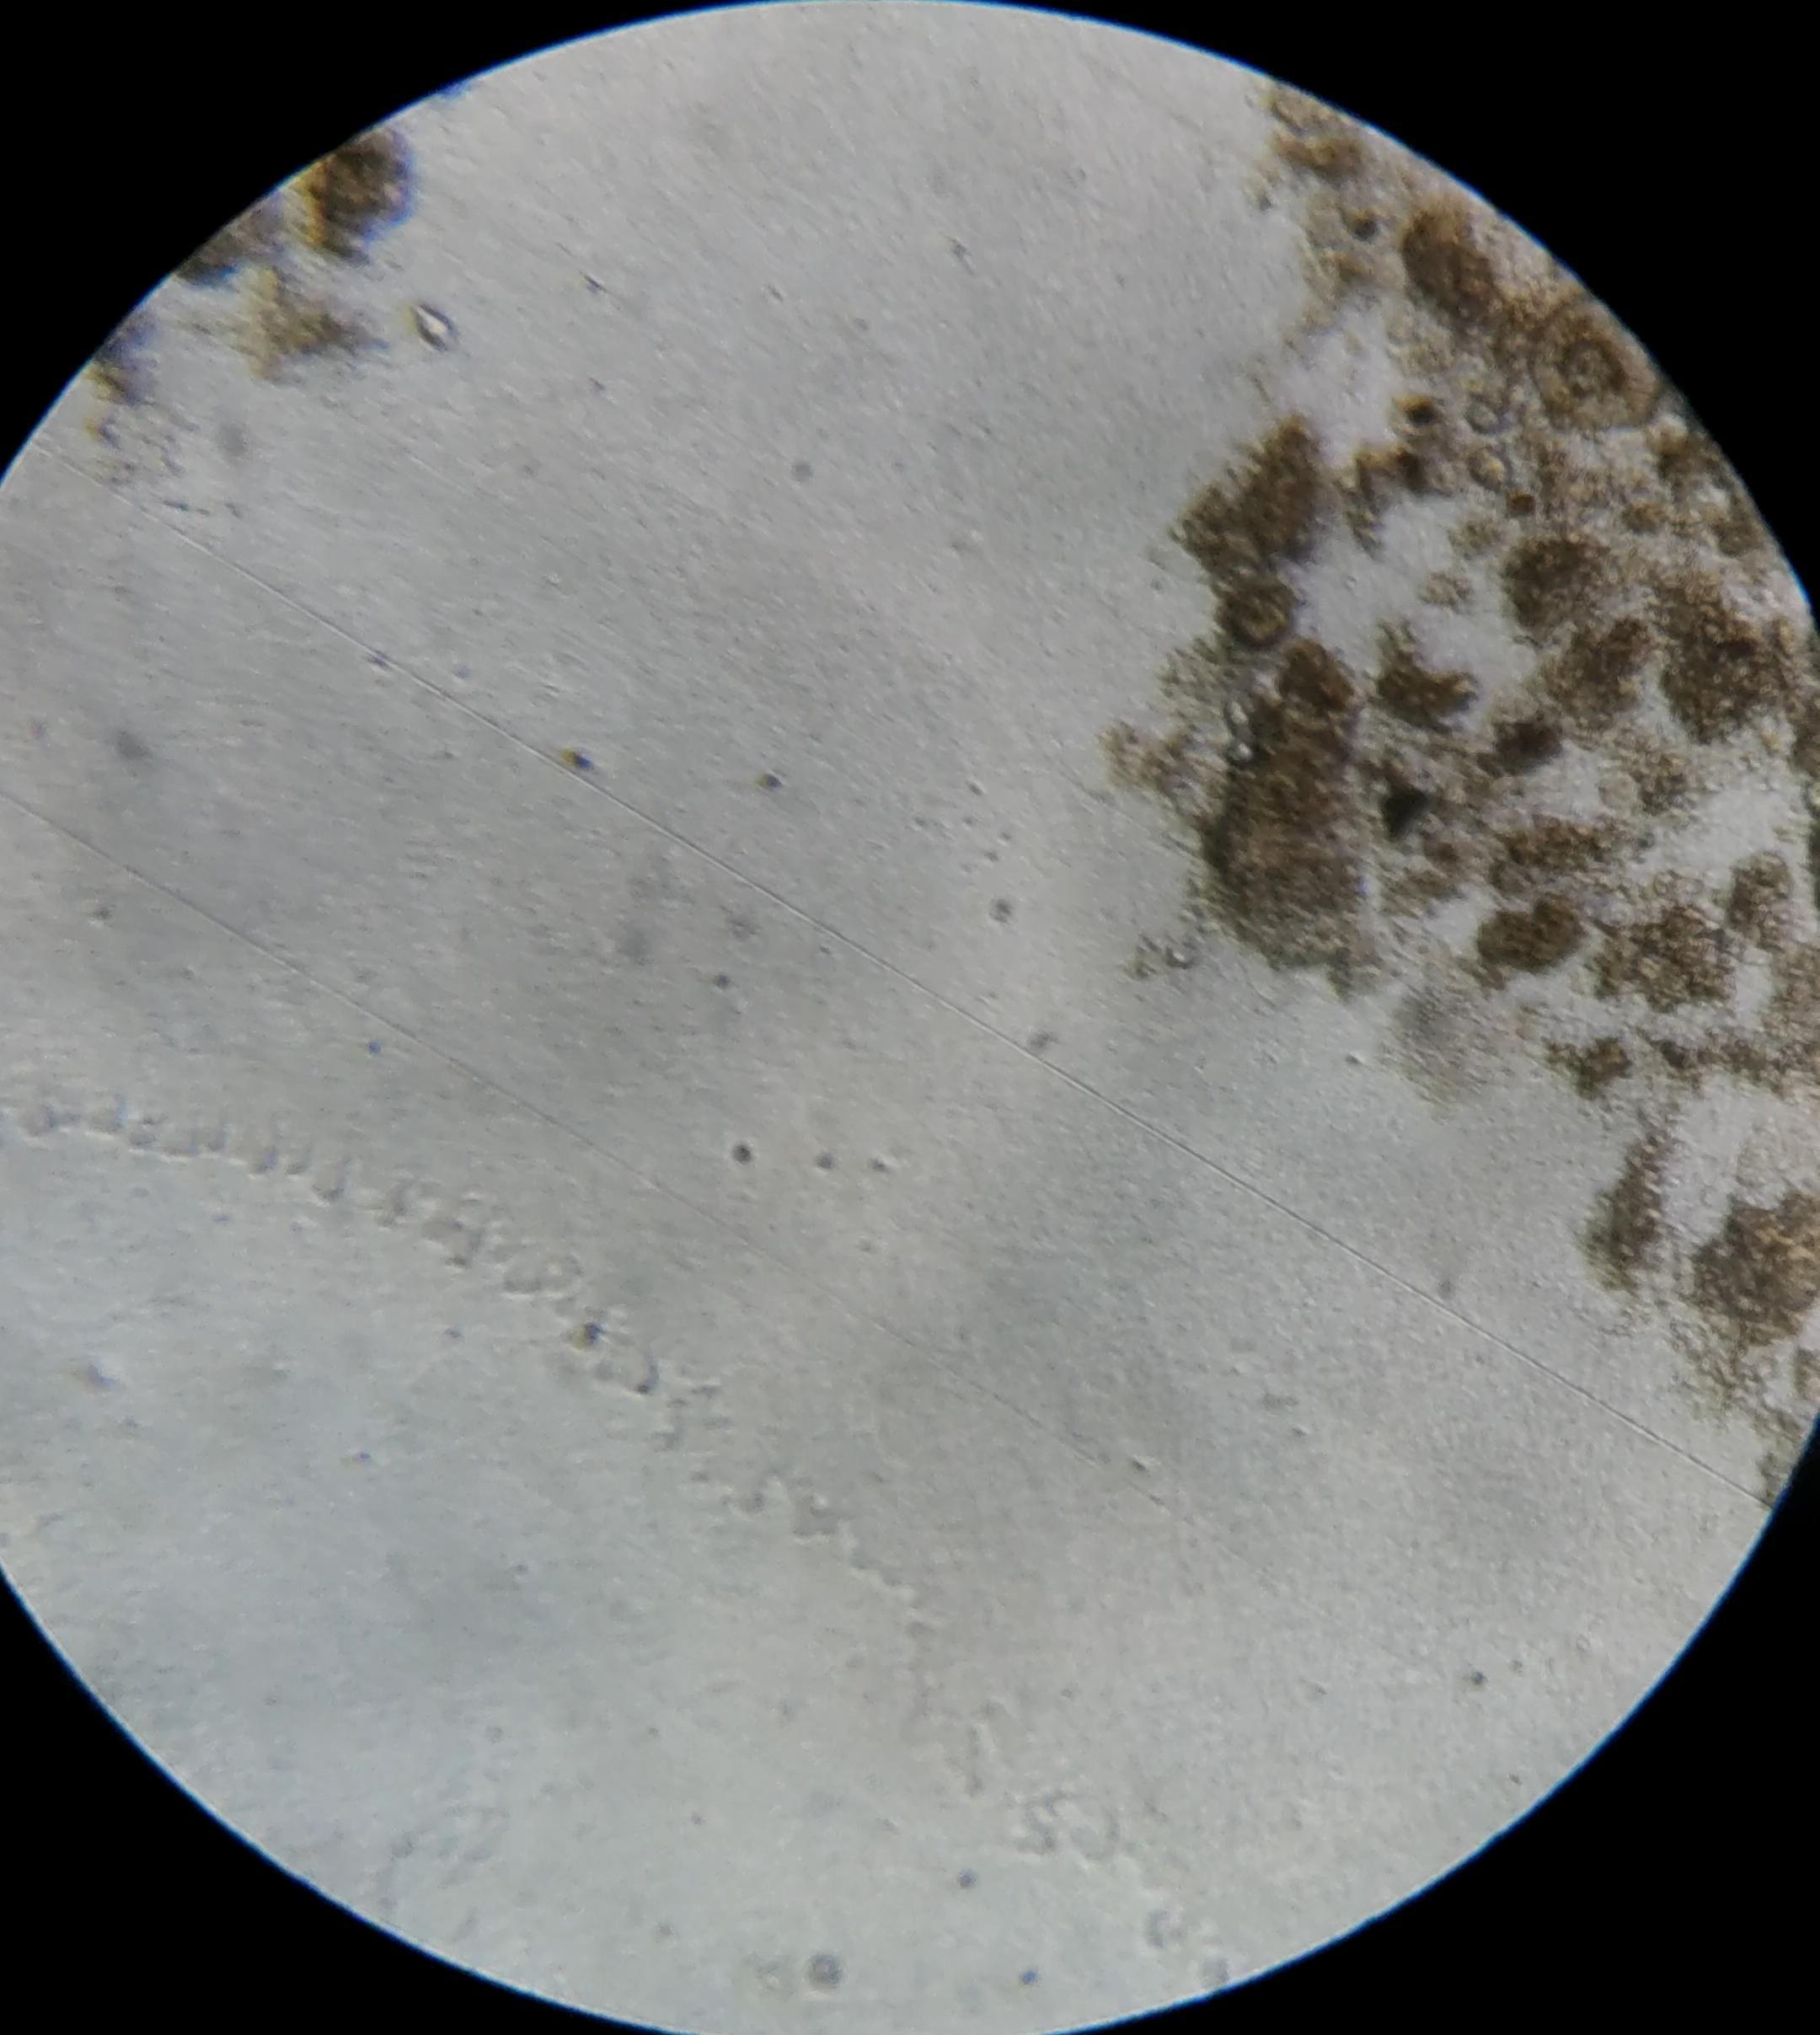Arcella: (1530, 297, 1662, 431)
